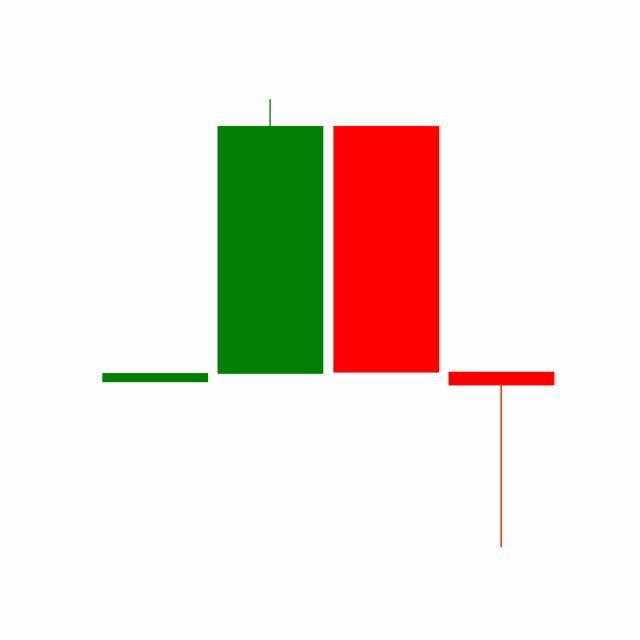Hanging Man: (444, 370, 560, 551)
